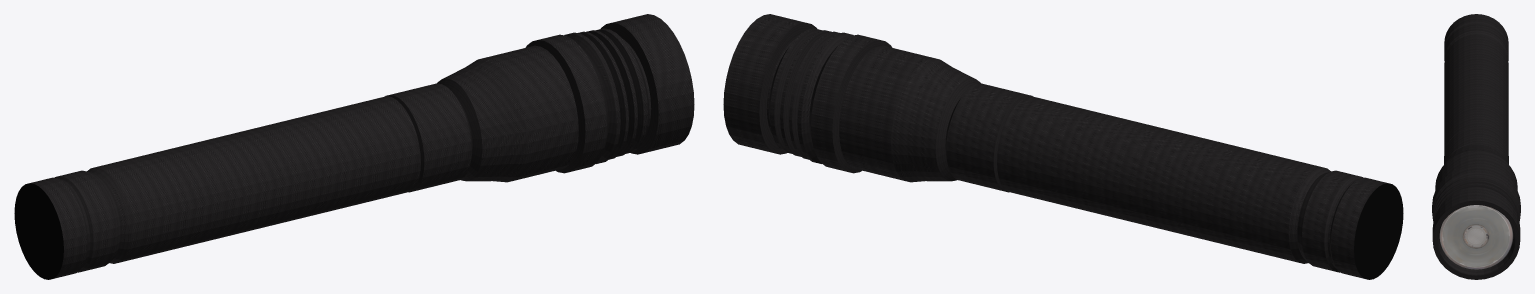
The model's file is Flashlight.obj.
3 renders of one model, left to right at view 1: azimuth 30°, elevation 25°; view 2: azimuth 150°, elevation 25°; view 3: azimuth 270°, elevation 25°, orthographic. The views are drawn at different scales.
Visible parts, largest first — view 1: Cylinder; view 2: Cylinder; view 3: Cylinder.
Part boxes in pixels (x1=…): Cylinder: x1=14, y1=14, x2=694, y2=279; Cylinder: x1=723, y1=14, x2=1403, y2=279; Cylinder: x1=1432, y1=14, x2=1520, y2=279.
Size of the model in its own units: 4.46 by 0.8484 by 0.8484.
